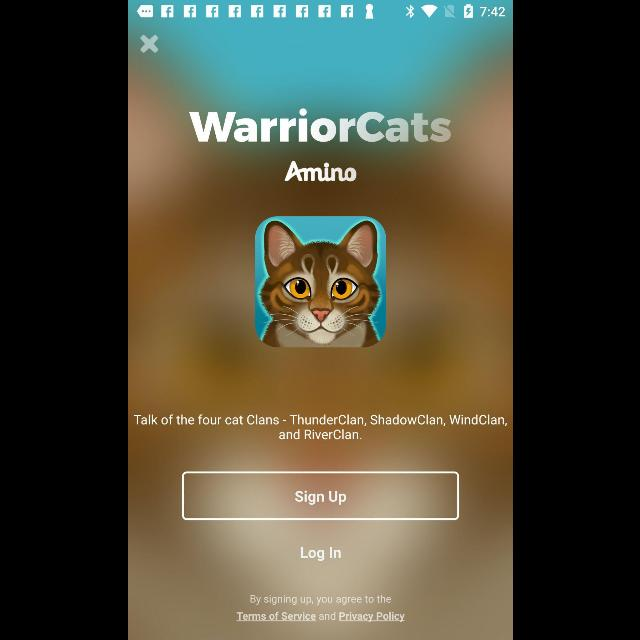icon: (140, 34, 158, 54)
image: (254, 216, 386, 348), (284, 160, 356, 182)
text: (134, 414, 506, 440), (188, 109, 452, 143), (236, 594, 404, 622), (300, 546, 340, 562)
textbutton: (182, 472, 458, 520)
uppertaskbar: (128, 1, 512, 20)
